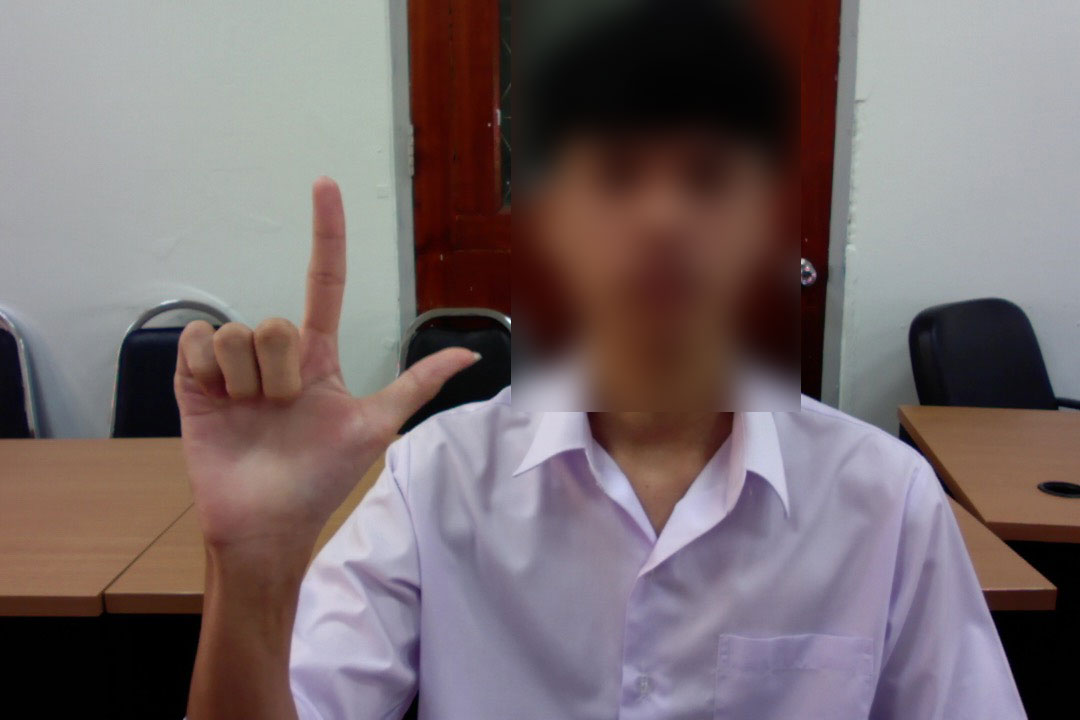lor: (154, 140, 488, 586)
